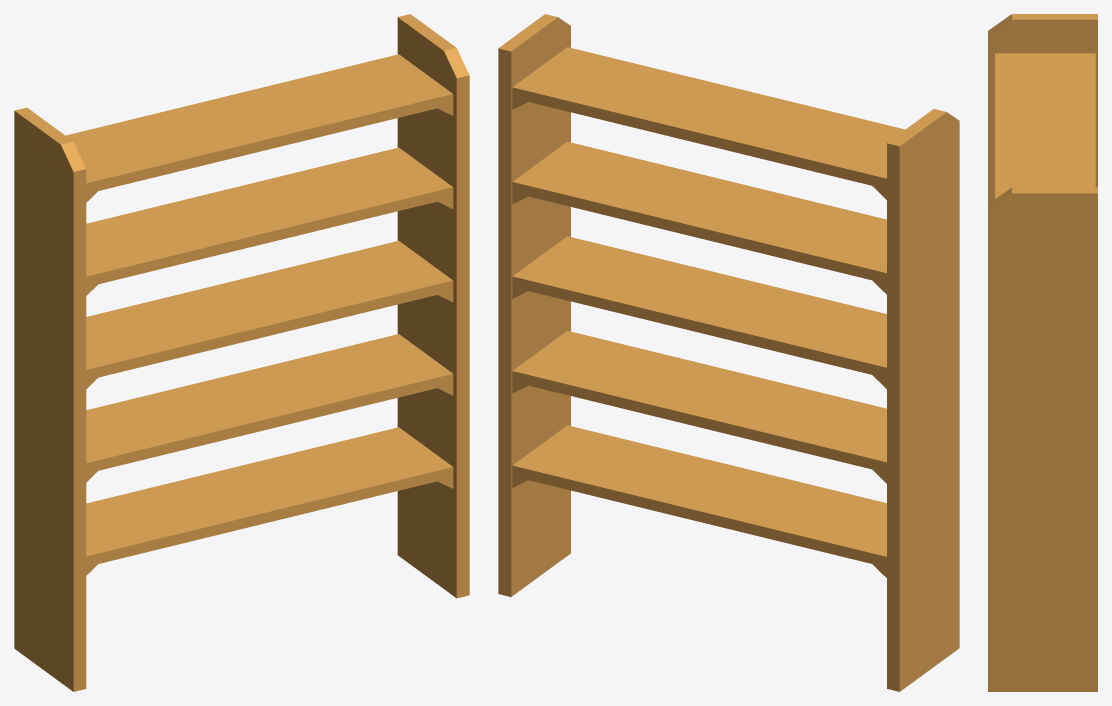
The model's file is shelf.glb.
The picture shows the model from 3 angles, left to right: view 1: azimuth 30°, elevation 25°; view 2: azimuth 150°, elevation 25°; view 3: azimuth 270°, elevation 25°; orthographic projection. The views are drawn at different scales.
Parts seen in each view (by area): view 1: shelf; view 2: shelf; view 3: shelf.
Boxes of the visible parts, box(x1,y1,x2,y2) form: shelf: box(14, 14, 469, 691); shelf: box(498, 14, 959, 691); shelf: box(988, 14, 1097, 691).
Size of the model in its own units: 1.86 by 2.42 by 0.4816.
